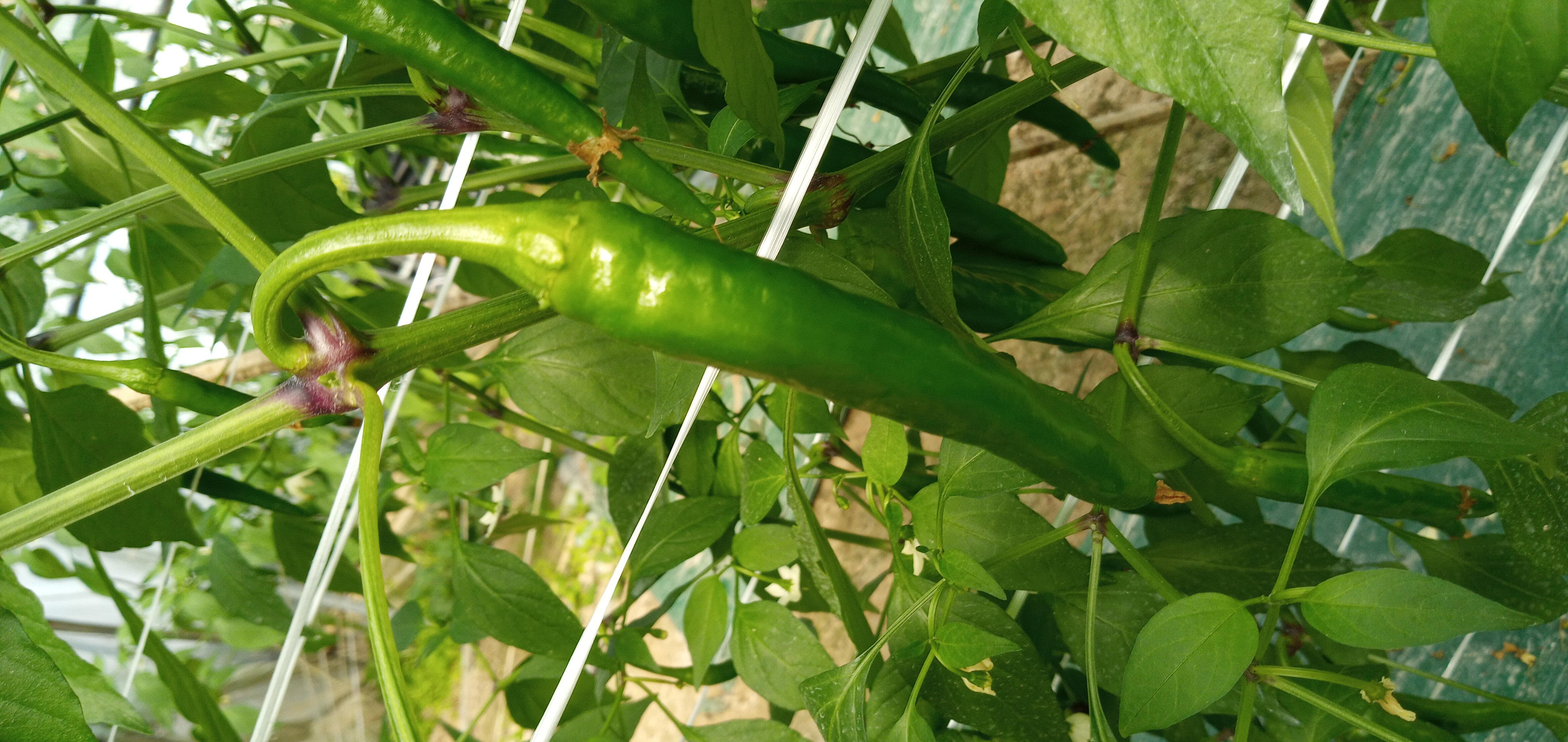Buah Cabai Sehat: (471, 192, 1185, 518)
